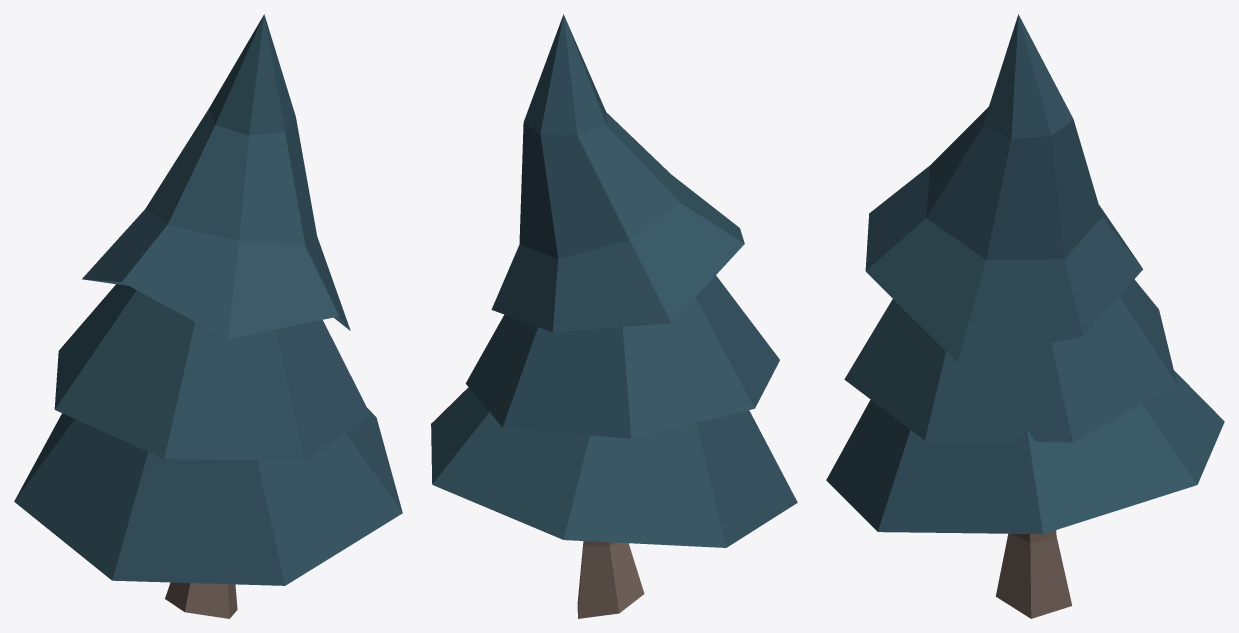
The model's file is fbTree1.fbx.
The picture shows the model from 3 angles, left to right: view 1: azimuth 30°, elevation 25°; view 2: azimuth 150°, elevation 25°; view 3: azimuth 270°, elevation 25°; orthographic projection. The views are drawn at different scales.
Visible parts, largest first — view 1: group153; view 2: group153; view 3: group153.
Boxes of the visible parts, left/top/right/bottom form: group153: left=14, top=14, right=402, bottom=618; group153: left=431, top=14, right=797, bottom=618; group153: left=826, top=14, right=1224, bottom=618.
Bounding box in the file's own units: 170 × 290 × 170.
